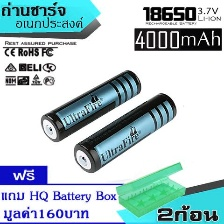battery: (70, 91, 180, 176), (39, 67, 144, 144)
plastic_box: (111, 159, 189, 219)
